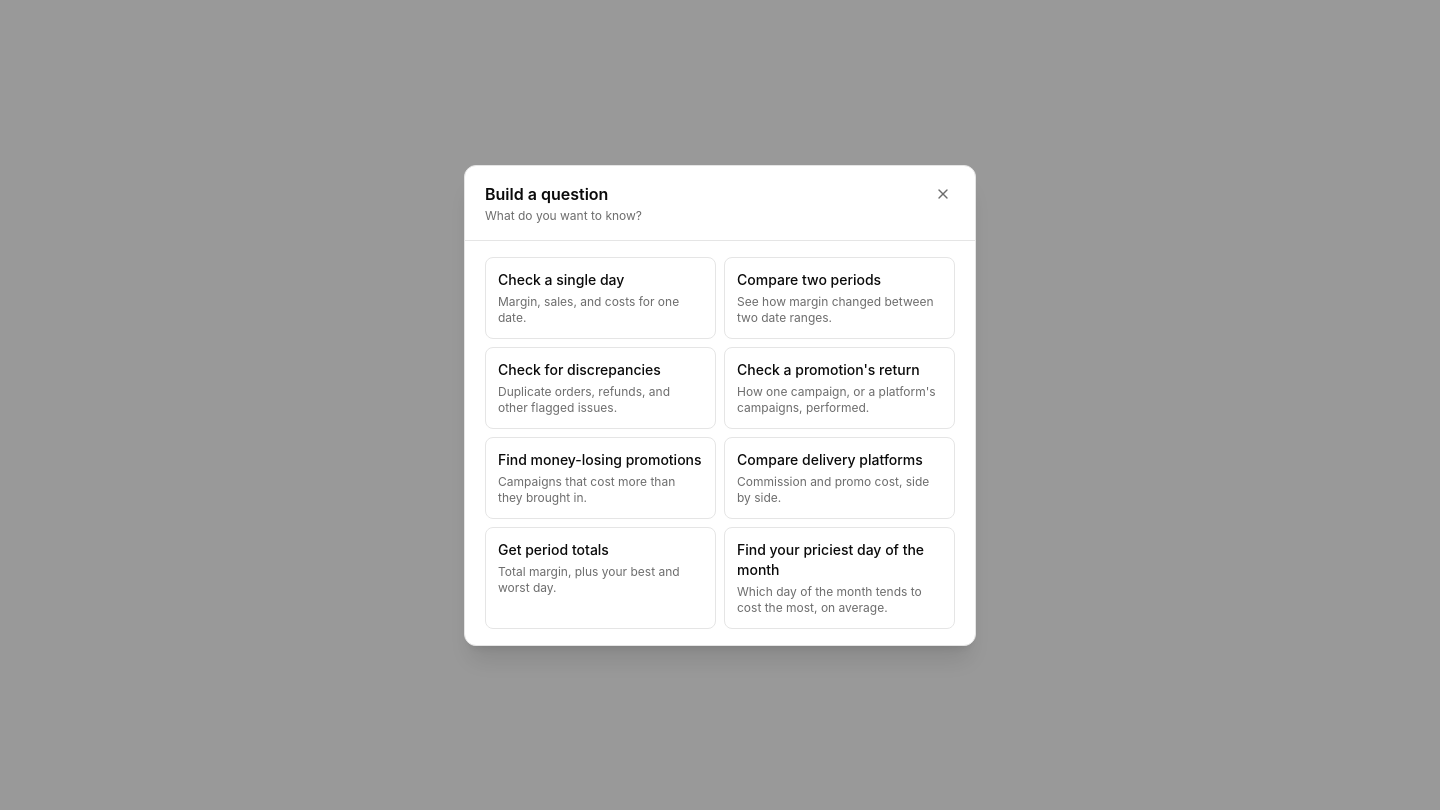
Scenario: QuestionComposer › shows a recoverable error, not a dead end, when the campaign list fails to load
The image size is (1440, 810).
Click the text "Check a promotion's return" at [828, 370], box [737, 360, 920, 380]
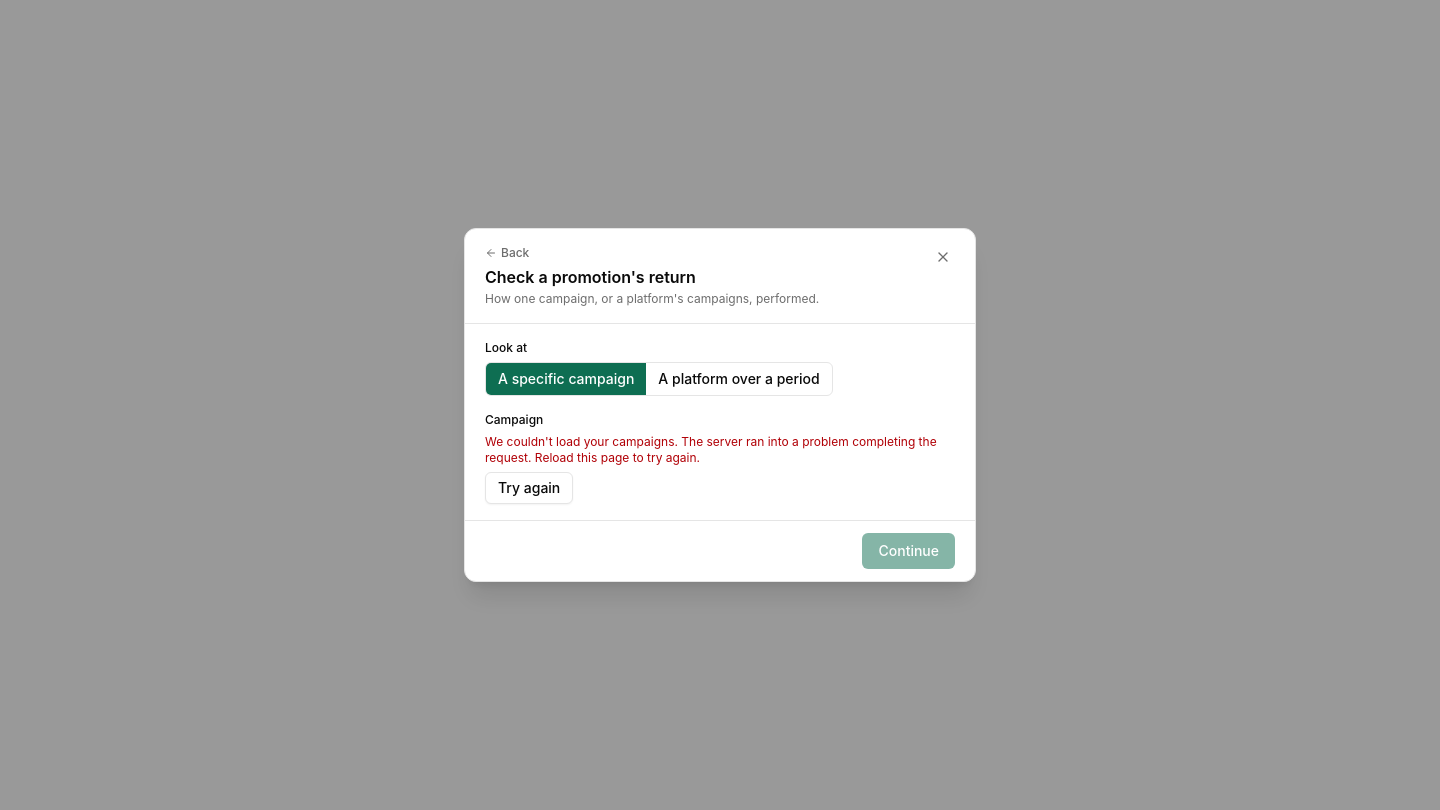
expect the text "couldn't load your campaigns" is shown: met, box [485, 434, 681, 449]
Click the button "Try again" at [529, 488], box [485, 472, 573, 504]
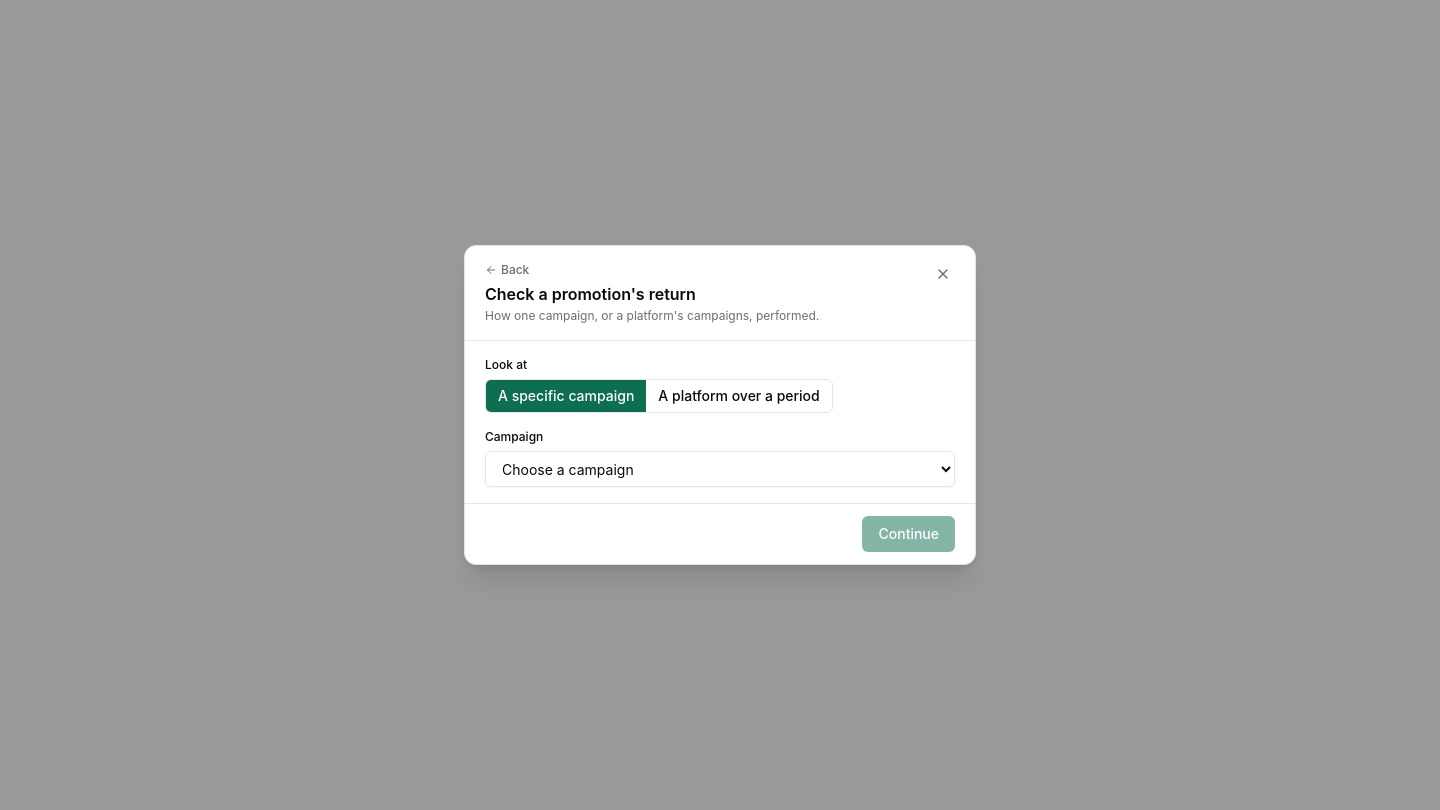
expect the dropdown labelled "Campaign" is shown: met, box [485, 451, 955, 487]
